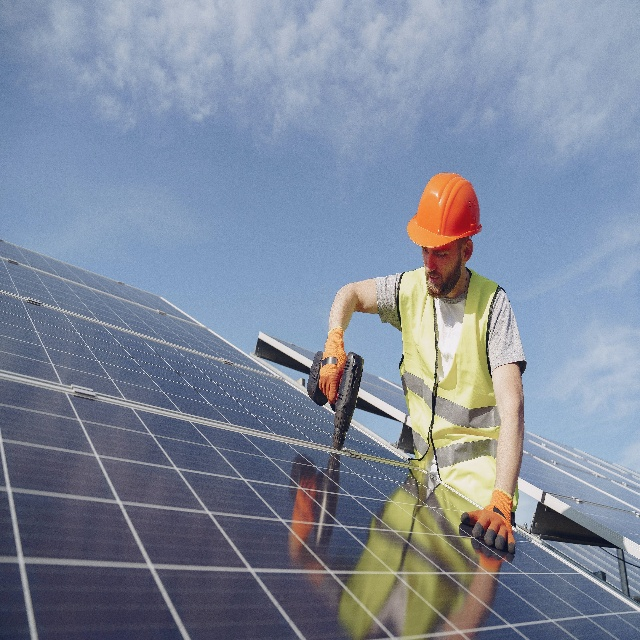Guantes: (460, 484, 517, 556), (319, 324, 348, 408)
